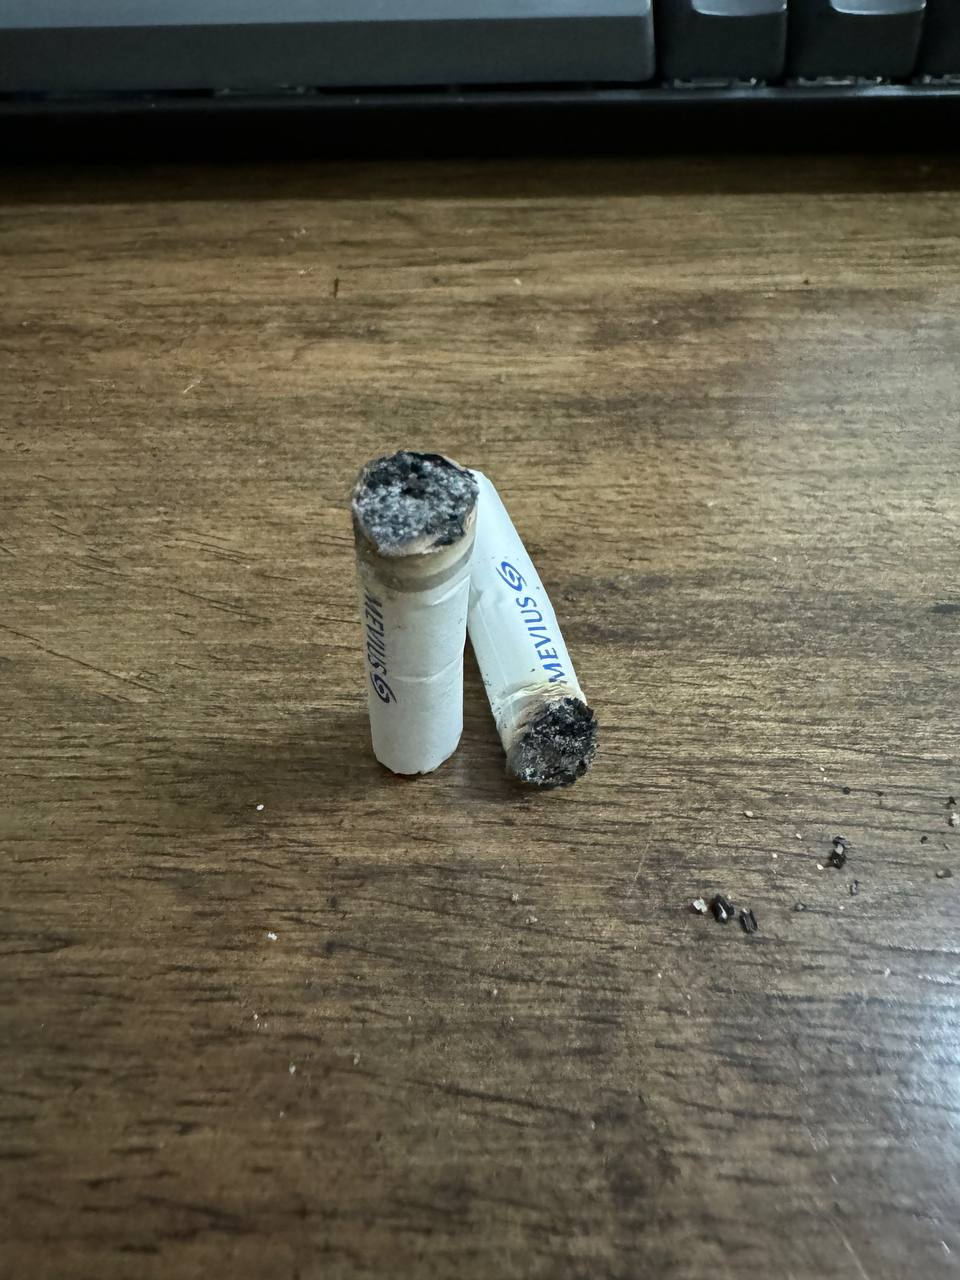trash: (422, 457, 604, 795), (329, 437, 488, 786)
